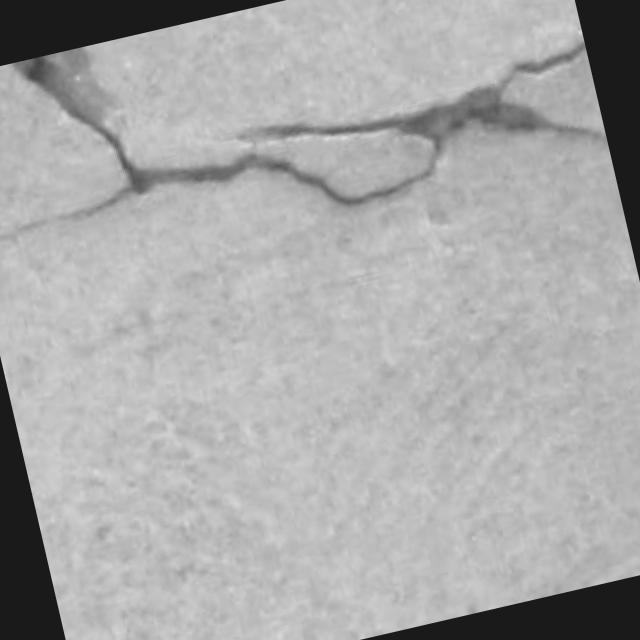crack: (13, 42, 606, 222), (239, 42, 606, 167), (13, 47, 146, 193)
